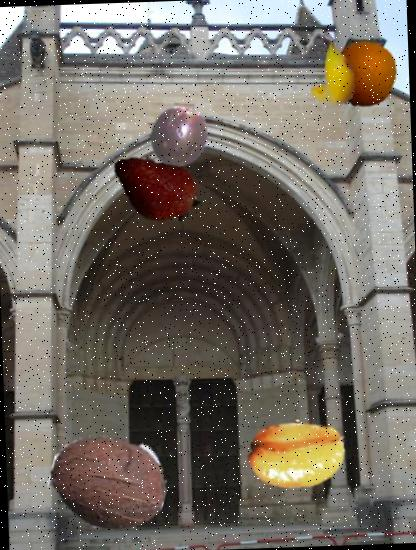Banana: (291, 38, 364, 111)
Carambula: (245, 402, 350, 506)
Cocos: (48, 422, 170, 544)
Orange: (330, 40, 399, 108)
Passion: (147, 104, 211, 168)
Strawberry: (116, 150, 204, 238)
